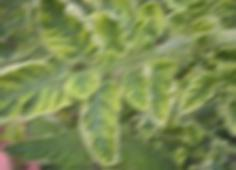Tomato leaf yellow virus: (27, 0, 102, 73), (78, 82, 129, 170), (0, 60, 56, 140), (138, 62, 175, 137), (181, 69, 217, 115), (91, 10, 126, 55), (134, 2, 166, 51), (121, 69, 150, 111), (168, 0, 211, 21), (183, 121, 202, 151)
